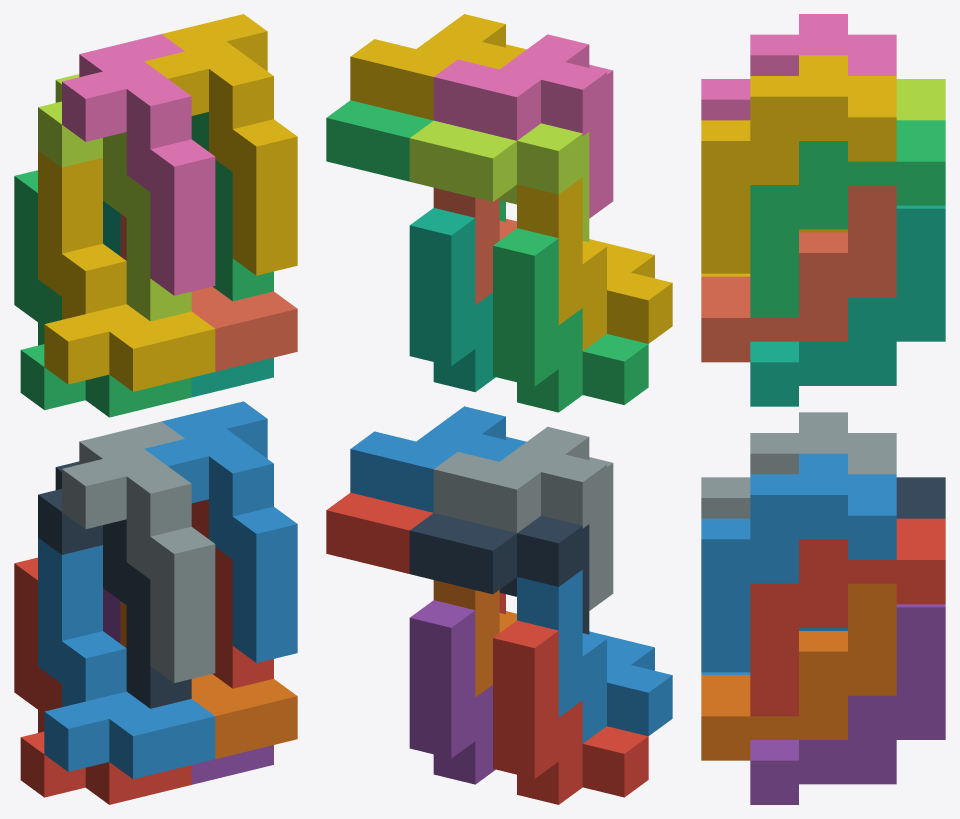
File: tiling.obj
The picture shows the model from 3 angles, left to right: view 1: azimuth 30°, elevation 25°; view 2: azimuth 150°, elevation 25°; view 3: azimuth 270°, elevation 25°; orthographic projection. The views are drawn at different scales.
Parts seen in each view (by area): view 1: copy_1_domain_2, copy_1_domain_4, copy_2_domain_4, copy_2_domain_2, copy_2_domain_8, copy_2_domain_6, copy_1_domain_1, copy_1_domain_3, copy_2_domain_1, copy_2_domain_3, copy_1_domain_8, copy_1_domain_6 (+4 smaller); view 2: copy_1_domain_1, copy_1_domain_3, copy_2_domain_4, copy_2_domain_2, copy_1_domain_2, copy_1_domain_4, copy_1_domain_5, copy_1_domain_7, copy_2_domain_1, copy_2_domain_3, copy_2_domain_8, copy_2_domain_6 (+4 smaller); view 3: copy_2_domain_6, copy_2_domain_8, copy_1_domain_7, copy_1_domain_5, copy_1_domain_8, copy_2_domain_5, copy_1_domain_6, copy_2_domain_7, copy_2_domain_2, copy_2_domain_4, copy_2_domain_1, copy_2_domain_3.
Part boxes in pixels (left/top/right/bottom): copy_1_domain_2: left=38, top=538, right=215, bottom=779; copy_1_domain_4: left=38, top=150, right=215, bottom=391; copy_2_domain_4: left=62, top=34, right=215, bottom=295; copy_2_domain_2: left=62, top=421, right=215, bottom=682; copy_2_domain_8: left=144, top=14, right=297, bottom=275; copy_2_domain_6: left=144, top=401, right=297, bottom=662; copy_1_domain_1: left=14, top=557, right=191, bottom=804; copy_1_domain_3: left=14, top=170, right=191, bottom=417; copy_2_domain_1: left=38, top=461, right=191, bottom=708; copy_2_domain_3: left=38, top=74, right=191, bottom=321; copy_1_domain_8: left=120, top=213, right=297, bottom=371; copy_1_domain_6: left=120, top=601, right=297, bottom=758; copy_1_domain_1: left=493, top=620, right=648, bottom=804; copy_1_domain_3: left=493, top=228, right=648, bottom=412; copy_2_domain_4: left=433, top=34, right=613, bottom=218; copy_2_domain_2: left=433, top=426, right=613, bottom=610; copy_1_domain_2: left=517, top=570, right=672, bottom=743; copy_1_domain_4: left=517, top=177, right=672, bottom=350; copy_1_domain_5: left=409, top=600, right=495, bottom=784; copy_1_domain_7: left=409, top=208, right=495, bottom=392; copy_2_domain_1: left=409, top=513, right=589, bottom=634; copy_2_domain_3: left=409, top=120, right=589, bottom=241; copy_2_domain_8: left=350, top=14, right=526, bottom=120; copy_2_domain_6: left=350, top=406, right=526, bottom=512; copy_2_domain_6: left=701, top=453, right=896, bottom=672; copy_2_domain_8: left=701, top=55, right=896, bottom=273; copy_1_domain_7: left=750, top=205, right=945, bottom=406; copy_1_domain_5: left=750, top=604, right=945, bottom=804; copy_1_domain_8: left=701, top=185, right=896, bottom=362; copy_2_domain_5: left=750, top=518, right=945, bottom=716; copy_1_domain_6: left=701, top=583, right=896, bottom=760; copy_2_domain_7: left=750, top=120, right=945, bottom=317; copy_2_domain_2: left=701, top=412, right=896, bottom=518; copy_2_domain_4: left=701, top=14, right=896, bottom=120; copy_2_domain_1: left=896, top=477, right=945, bottom=518; copy_2_domain_3: left=896, top=79, right=945, bottom=120.
Bounding box in the file's own units: 6 × 16 × 5.
